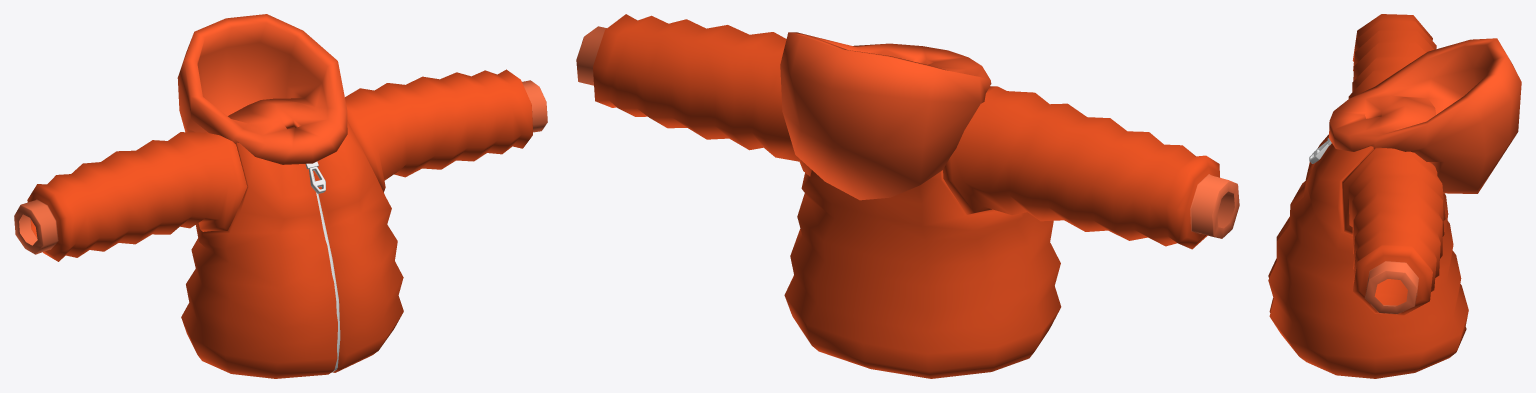
File: Outerwear_Orange_009.glb
3 renders of one model, left to right at view 1: azimuth 30°, elevation 25°; view 2: azimuth 150°, elevation 25°; view 3: azimuth 270°, elevation 25°, orthographic. The views are drawn at different scales.
Parts seen in each view (by area): view 1: Outerwear_Orange_009; view 2: Outerwear_Orange_009; view 3: Outerwear_Orange_009.
Boxes of the visible parts, box(x1,y1,x2,y2) form: Outerwear_Orange_009: box(14, 14, 547, 378); Outerwear_Orange_009: box(576, 14, 1239, 378); Outerwear_Orange_009: box(1268, 14, 1521, 378).
Size of the model in its own units: 1.3 by 0.677 by 0.5446.
1 material, 1 textured.
